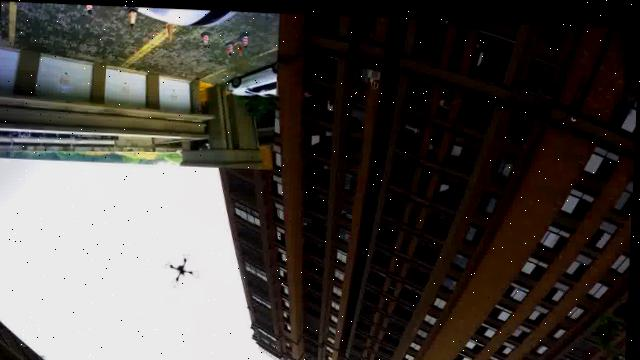drone: (166, 254, 202, 287)
